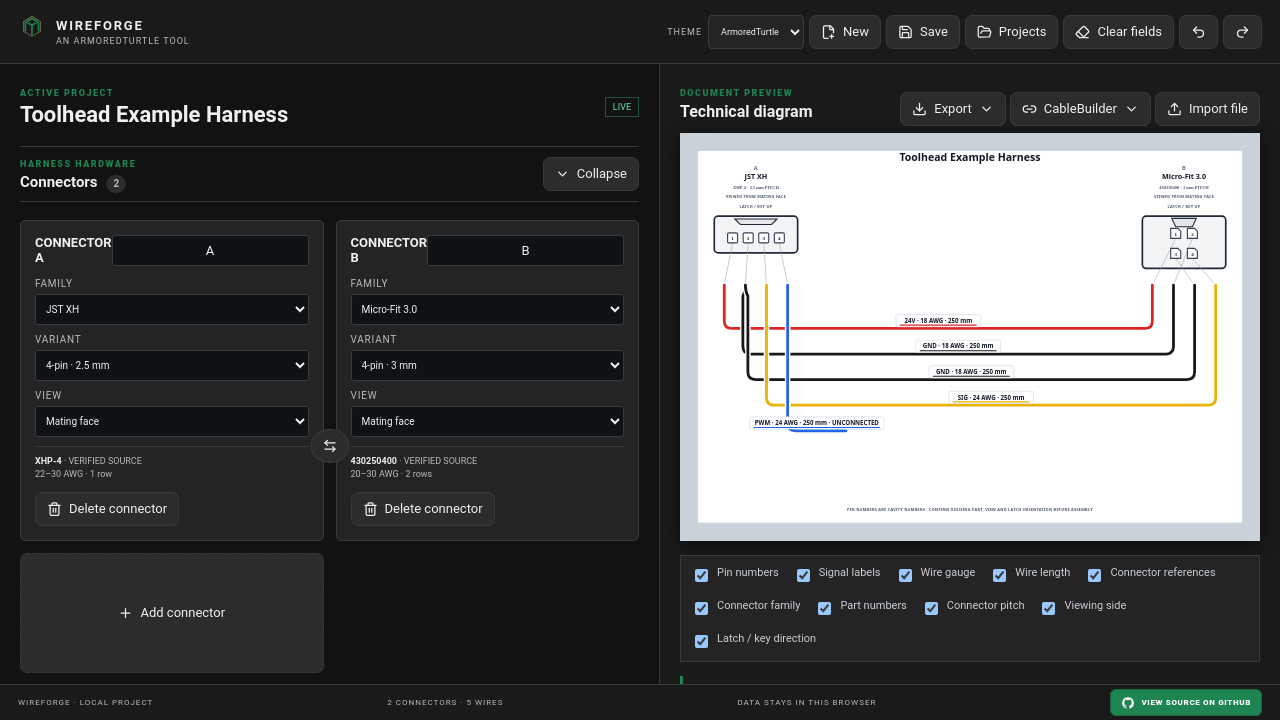
Test: editor flow › collapses builder sections and keeps a workspace footer
This screenshot has width=1280, height=720.
Expected: the text "DATA STAYS IN THIS BROWSER" is shown, x1=737 y1=698 x2=876 y2=707
Expected: the picture with alt text "ArmoredTurtle" is shown, x1=18 y1=14 x2=46 y2=49
Click the button "Collapse" at [591, 174], box x1=543 y1=157 x2=639 y2=191
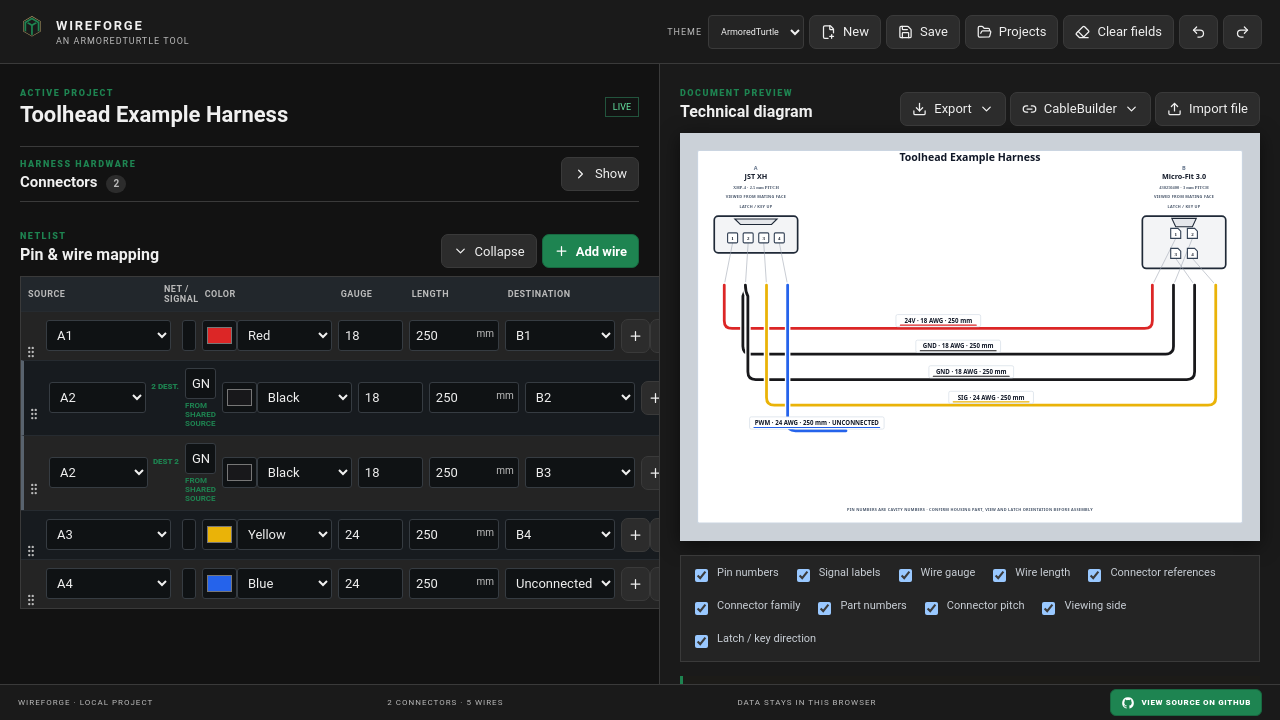
Click the button "Show" at [600, 174], box x1=561 y1=157 x2=639 y2=191
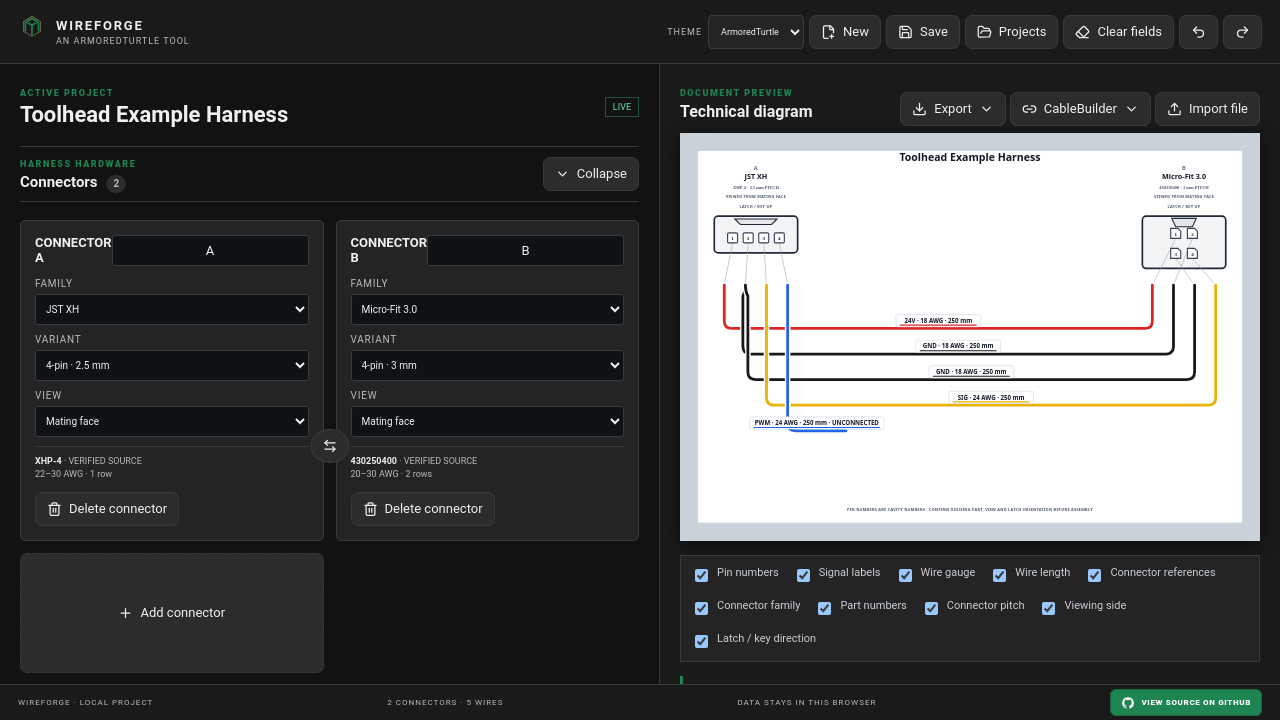
Result: the field named "Connector A reference" is shown at x1=112 y1=234 x2=308 y2=266
